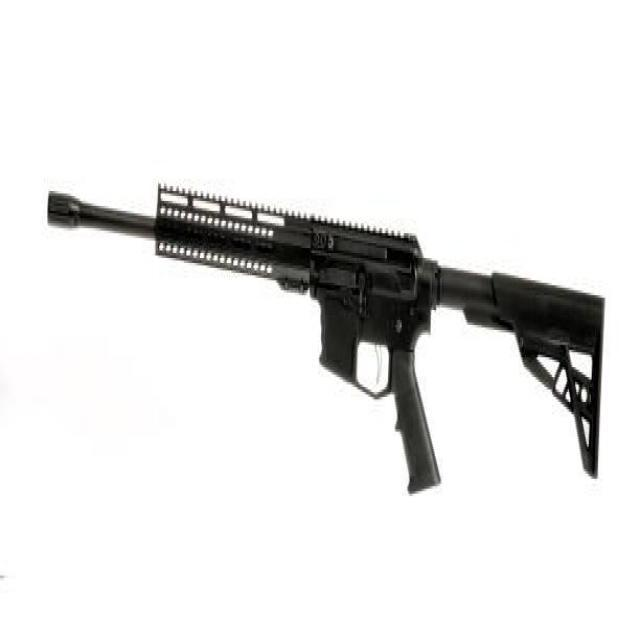weapon: (47, 178, 606, 498)
